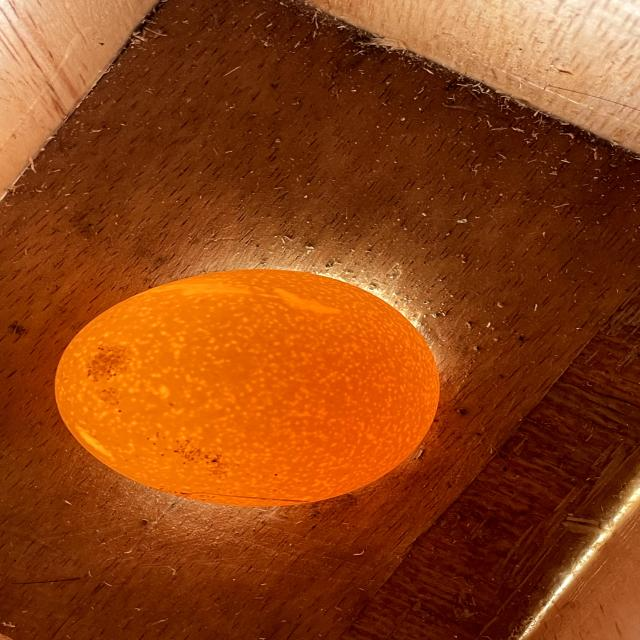infertile: (55, 270, 438, 506)
